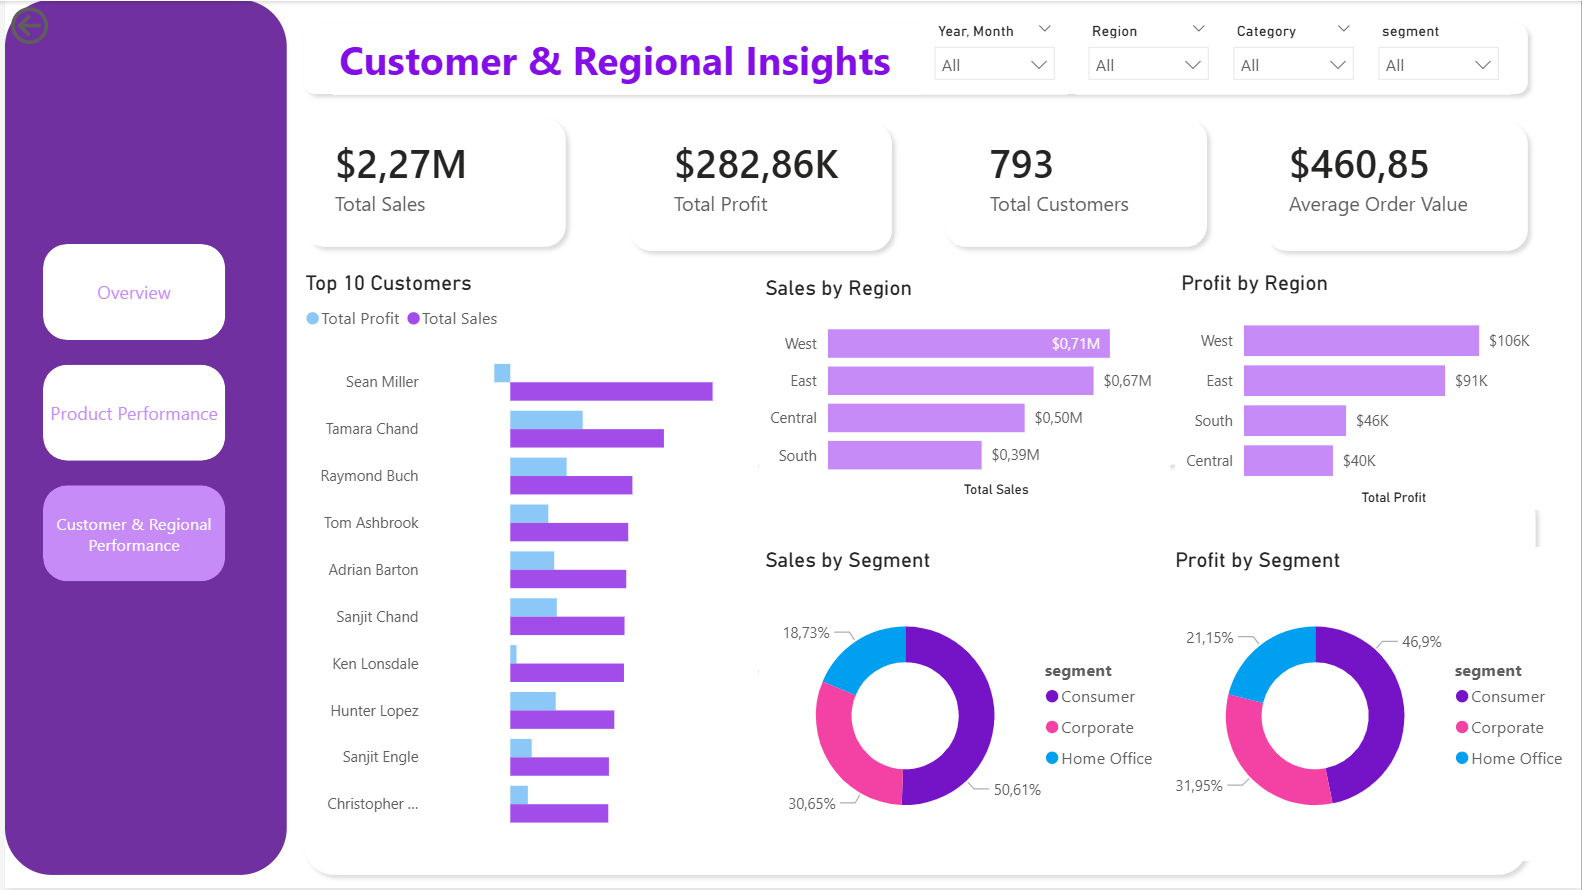

The page's visual inventory and layout, read from the dashboard file:
{"tool":"powerbi","page":{"name":"Customer & Regional Performance","canvas":[1280,720],"ordinal":2},"visuals":[{"type":"textbox","box":[266.6,20,478.3,55.9],"z":0},{"type":"slicer","title":"Sales Over Time","fields":{"Values":["superstore_db orders.order_date.Variation.Date Hierarchy.Year","superstore_db orders.order_date.Variation.Date Hierarchy.Month"]},"box":[744.8,12,117.8,63.9],"z":1000},{"type":"slicer","title":"Sales Over Time","fields":{"Values":["superstore_db products.category"]},"box":[987.5,12,117.8,63.9],"z":2000},{"type":"slicer","title":"Sales Over Time","fields":{"Values":["superstore_db orders.region"]},"box":[869.6,12,117.8,63.9],"z":3000},{"type":"slicer","title":"Sales Over Time","fields":{"Values":["superstore_db customers.segment"]},"box":[1105.3,12,117.8,63.9],"z":4000},{"type":"pageNavigator","box":[31,197.7,148.8,275.6],"z":5000},{"type":"cardVisual","fields":{"Data":["superstore_db customers.Total Customers"]},"box":[770.8,86.9,196.7,110.8],"z":6000},{"type":"cardVisual","fields":{"Data":["superstore_db order_items.Average Order Value"]},"box":[1013.4,86.9,209.7,110.8],"z":7000},{"type":"cardVisual","fields":{"Data":["superstore_db order_items.Total Profit"]},"box":[514.2,86.9,196.7,110.8],"z":8000},{"type":"cardVisual","fields":{"Data":["superstore_db order_items.Total Sales"]},"box":[238.6,86.9,196.7,110.8],"z":9000},{"type":"barChart","title":"Profit by Region","fields":{"Category":["superstore_db orders.region"],"Y":["superstore_db order_items.Total Profit"]},"box":[950.2,218.3,304.5,195.3],"z":10000},{"type":"donutChart","title":"Sales by Segment","fields":{"Category":["superstore_db customers.segment"],"Y":["superstore_db order_items.Total Sales"]},"box":[612.4,443.5,334.4,255.1],"z":11000},{"type":"clusteredBarChart","title":"Top 10 Customers","fields":{"Category":["superstore_db customers.customer_name"],"Y":["superstore_db order_items.Total Profit","superstore_db order_items.Total Sales"]},"box":[239,218.3,373.4,469.9],"z":12000},{"type":"barChart","title":"Sales by Region","fields":{"Category":["superstore_db orders.region"],"Y":["superstore_db order_items.Total Sales"]},"box":[612.4,222.9,334.4,185],"z":13000},{"type":"donutChart","title":"Profit by Segment","fields":{"Category":["superstore_db customers.segment"],"Y":["superstore_db order_items.Total Profit"]},"box":[945.6,443.5,334.4,255.1],"z":14000},{"type":"actionButton","box":[0,0,100,40],"z":15000}]}

Visuals, with their boxes in screenshot pixels (x1, y1, x2, y2), scaled from the page's 1280x720 canvas onto the 1582x890 screenshot:
textbox: [left=330, top=25, right=921, bottom=94]
"Sales Over Time" slicer: [left=921, top=15, right=1066, bottom=94]
"Sales Over Time" slicer: [left=1220, top=15, right=1366, bottom=94]
"Sales Over Time" slicer: [left=1075, top=15, right=1220, bottom=94]
"Sales Over Time" slicer: [left=1366, top=15, right=1512, bottom=94]
pageNavigator: [left=38, top=244, right=222, bottom=585]
cardVisual - superstore_db customers.Total Customers: [left=953, top=107, right=1196, bottom=244]
cardVisual - superstore_db order_items.Average Order Value: [left=1252, top=107, right=1512, bottom=244]
cardVisual - superstore_db order_items.Total Profit: [left=636, top=107, right=879, bottom=244]
cardVisual - superstore_db order_items.Total Sales: [left=295, top=107, right=538, bottom=244]
"Profit by Region" barChart: [left=1174, top=270, right=1551, bottom=511]
"Sales by Segment" donutChart: [left=757, top=548, right=1170, bottom=864]
"Top 10 Customers" clusteredBarChart: [left=295, top=270, right=757, bottom=851]
"Sales by Region" barChart: [left=757, top=276, right=1170, bottom=504]
"Profit by Segment" donutChart: [left=1169, top=548, right=1581, bottom=864]
actionButton: [left=0, top=0, right=124, bottom=49]
